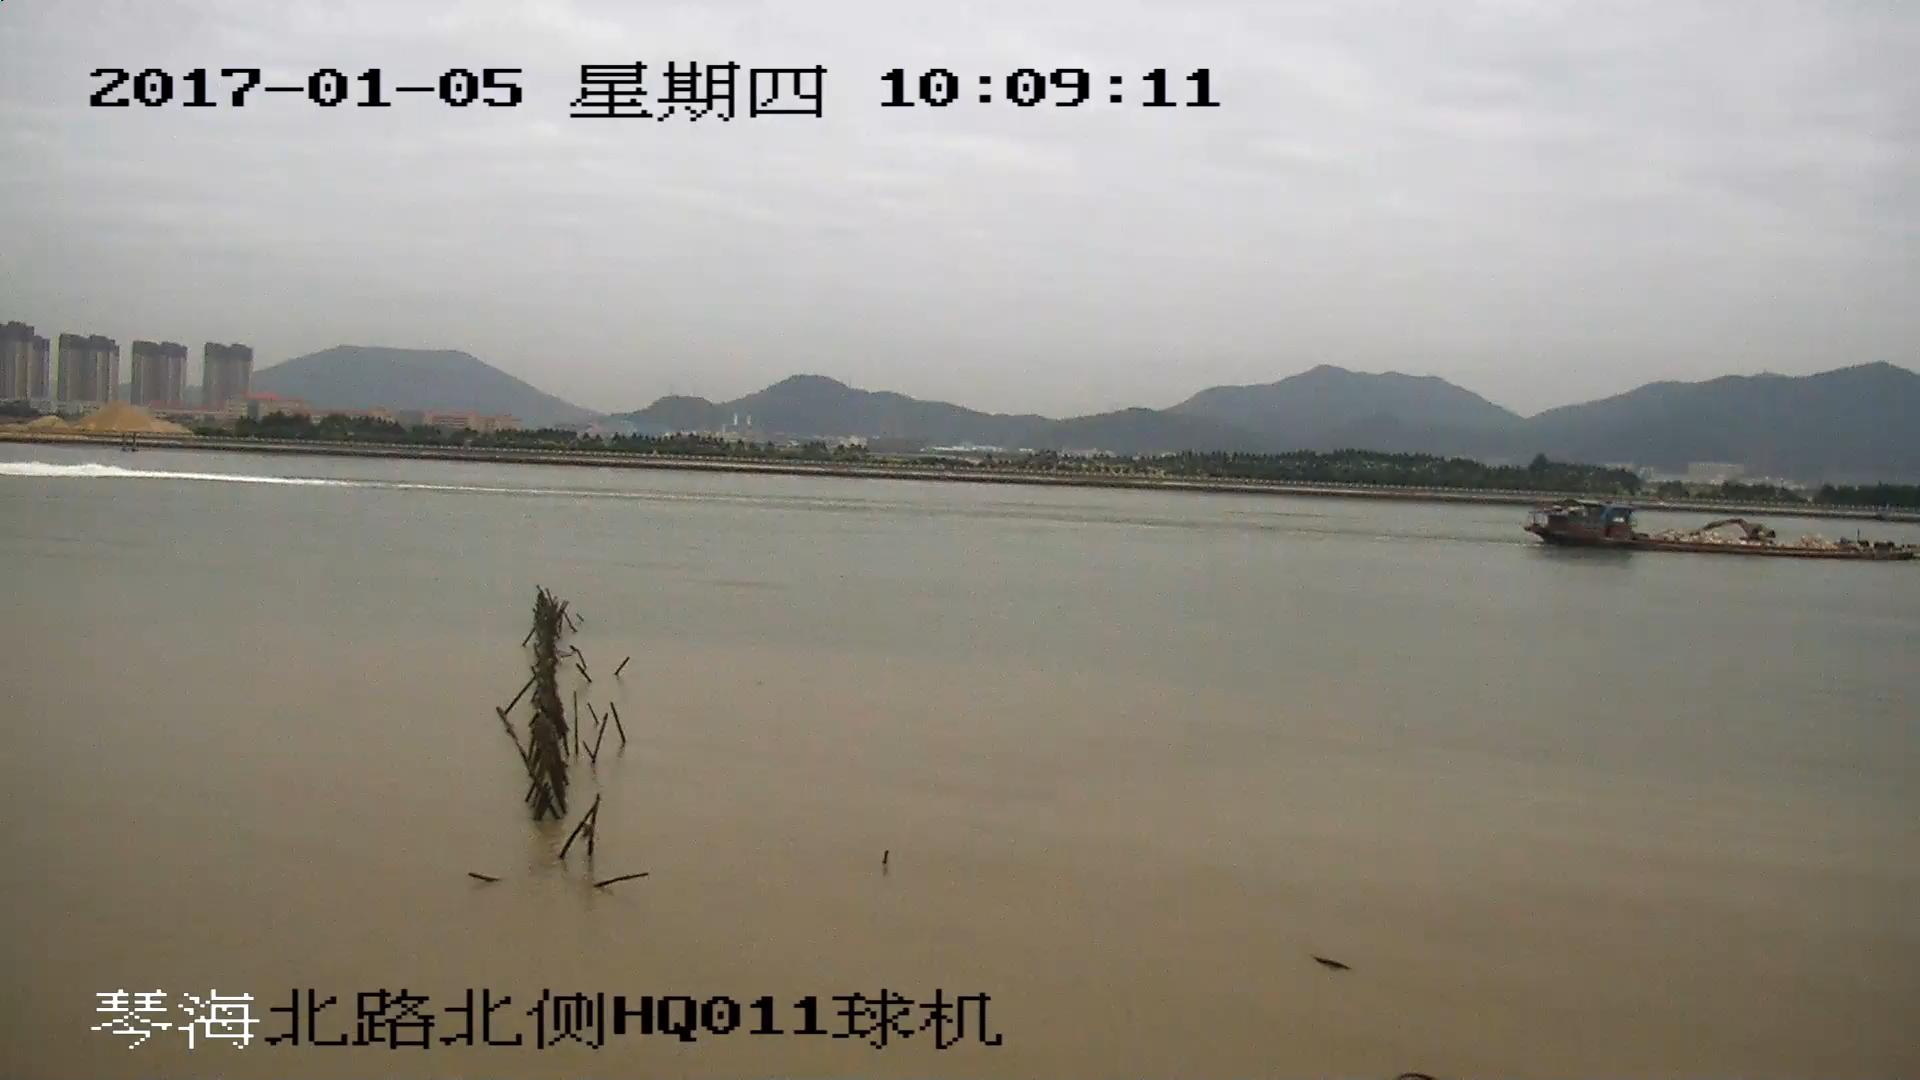bulk cargo carrier: (1525, 501, 1920, 565)
